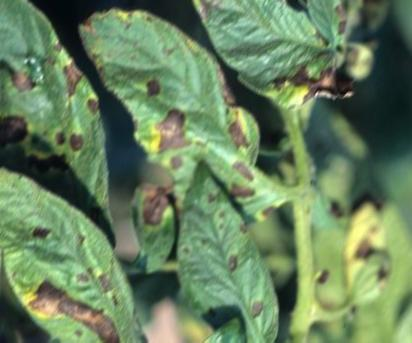Tomato Early blight leaf: (82, 28, 269, 207), (0, 158, 162, 343), (0, 0, 93, 223), (170, 158, 278, 343)
